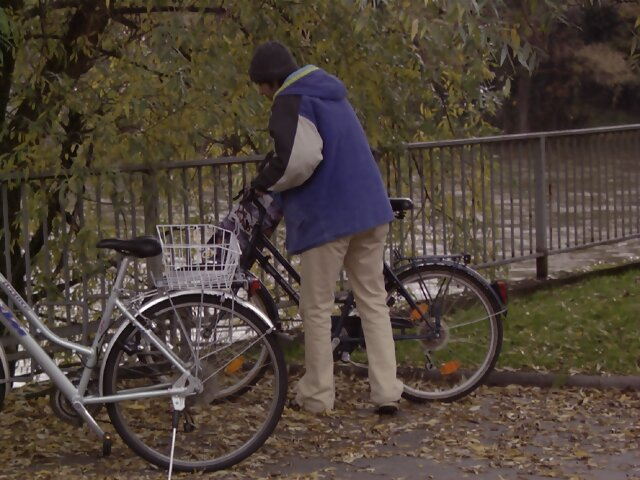person: (243, 38, 415, 420)
